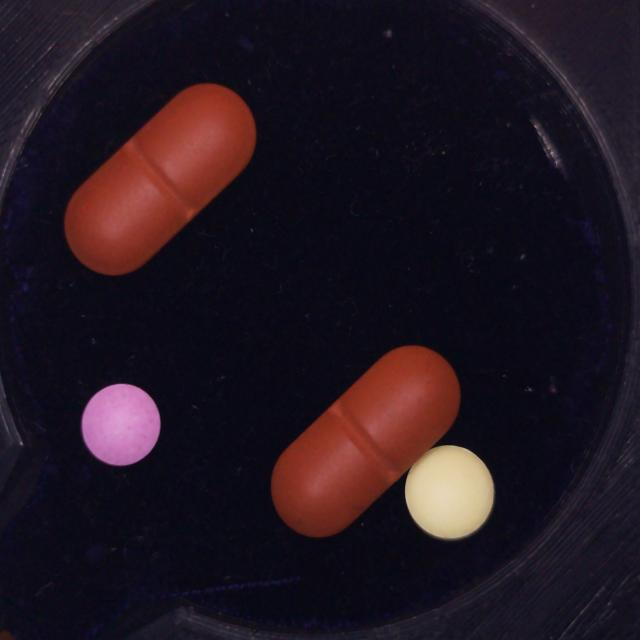Pill: (64, 84, 256, 275), (271, 346, 461, 537), (405, 445, 495, 540), (81, 384, 160, 466)
